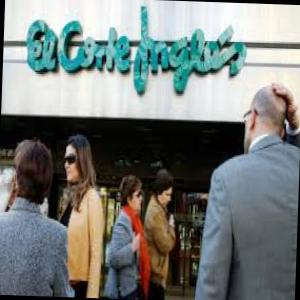corte_ingles: (13, 1, 252, 108)
